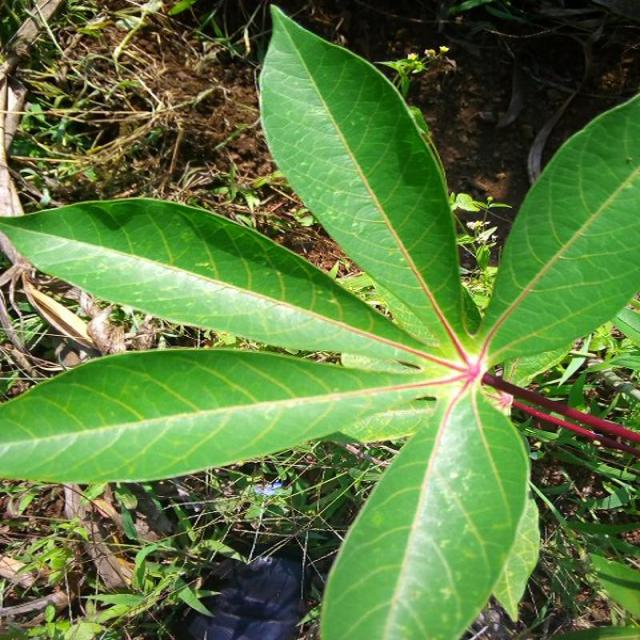cassava leaf: (1, 4, 638, 638), (257, 4, 472, 358), (0, 346, 440, 484), (318, 380, 533, 638), (474, 90, 638, 369)
